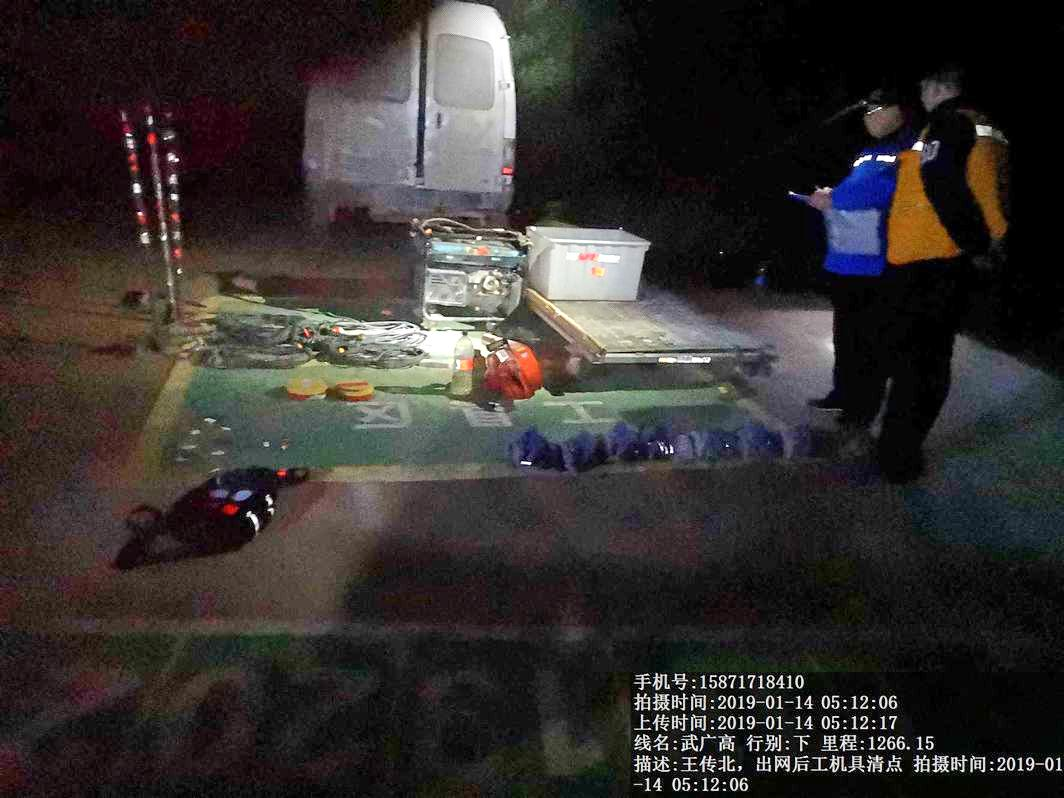DJ: (412, 220, 527, 329)
GJB: (139, 457, 306, 546)
JC: (274, 368, 334, 403), (334, 377, 375, 403)
T: (525, 214, 653, 306)
